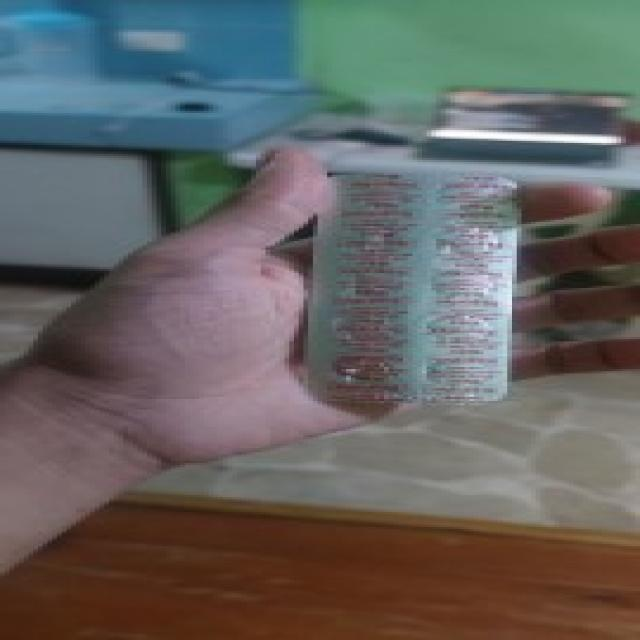Cacat: (318, 173, 514, 395)
